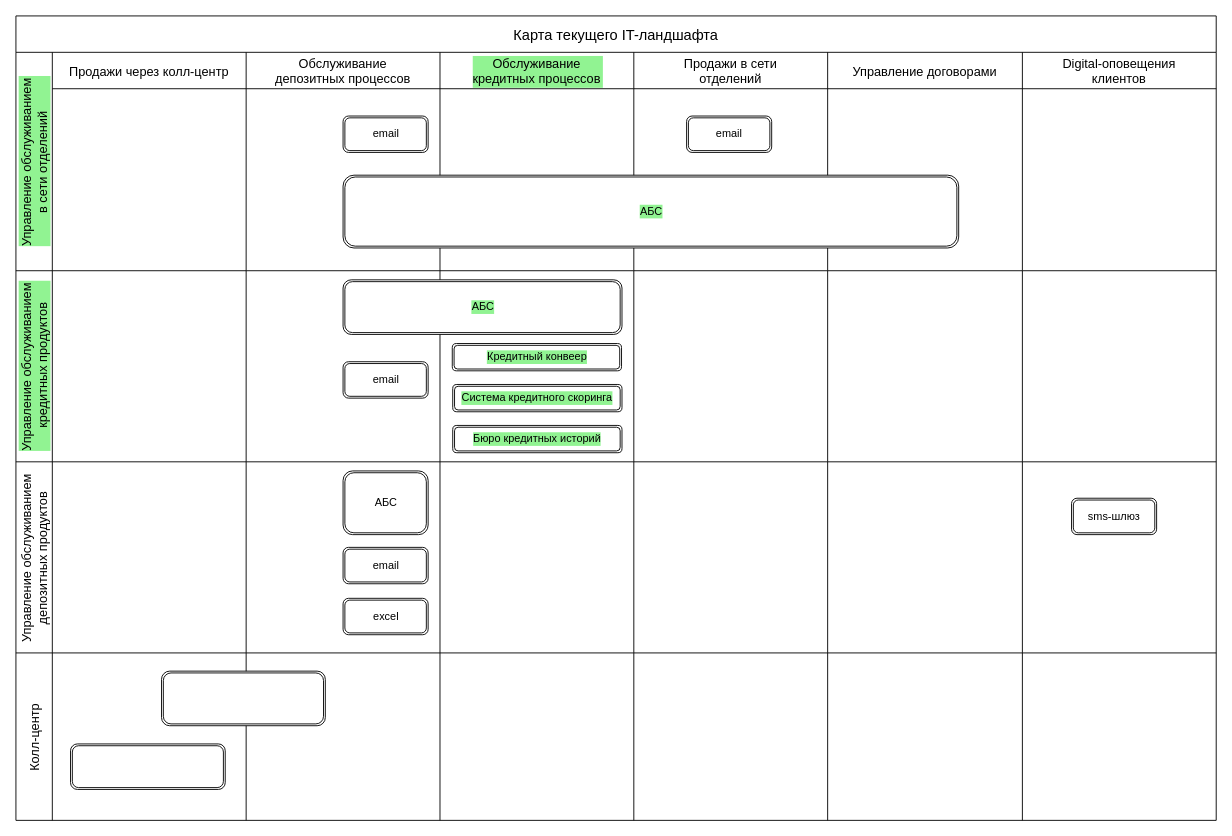
The diagram is 1232 pixels wide and 836 high, and some of its shapes have lost their labels. The box of each missing label's shape, as (x1, y1, x2, y2) in pixels:
Партнерская система колл-центра: (70, 743, 225, 789)
Система колл-центра: (161, 670, 325, 726)
